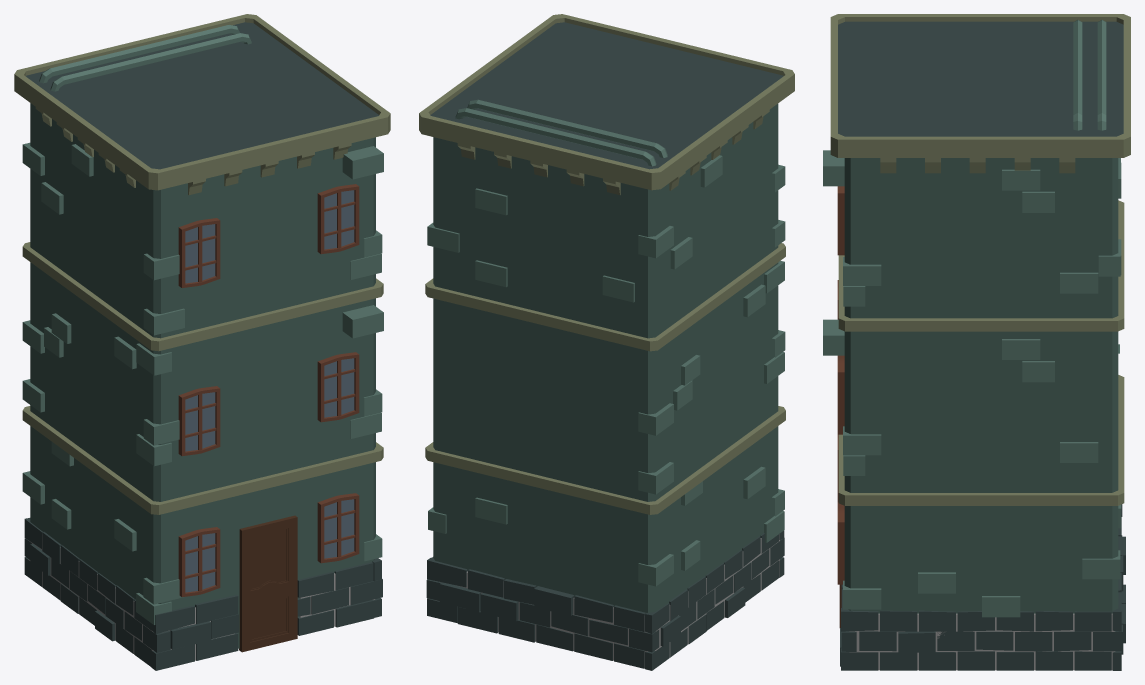
File: 3Story_Small.glb
The picture shows the model from 3 angles, left to right: view 1: azimuth 30°, elevation 25°; view 2: azimuth 150°, elevation 25°; view 3: azimuth 270°, elevation 25°; orthographic projection. The views are drawn at different scales.
Parts seen in each view (by area): view 1: 3Story_Small_Mat; view 2: 3Story_Small_Mat; view 3: 3Story_Small_Mat.
Boxes of the visible parts, <box> form: 3Story_Small_Mat: <box>14,14,390,670</box>; 3Story_Small_Mat: <box>419,14,794,670</box>; 3Story_Small_Mat: <box>823,14,1130,670</box>.
Bounding box in the file's own units: 1.91 × 3.85 × 1.97.
